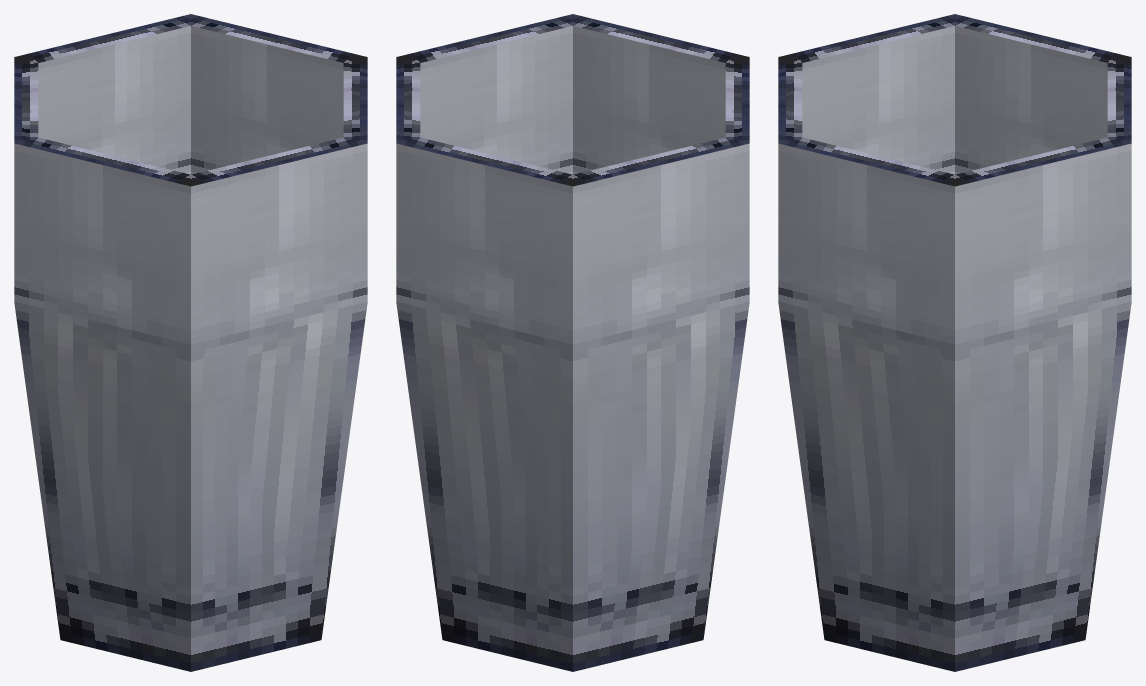
File: Glas01.obj
3 renders of one model, left to right at view 1: azimuth 30°, elevation 25°; view 2: azimuth 150°, elevation 25°; view 3: azimuth 270°, elevation 25°, orthographic.
Parts seen in each view (by area): view 1: Glas01; view 2: Glas01; view 3: Glas01.
Boxes of the visible parts, box(x1,y1,x2,y2) form: Glas01: box(14, 14, 367, 671); Glas01: box(396, 14, 749, 671); Glas01: box(778, 14, 1131, 671).
Bounding box in the file's own units: 0.091 × 0.1249 × 0.0788.
